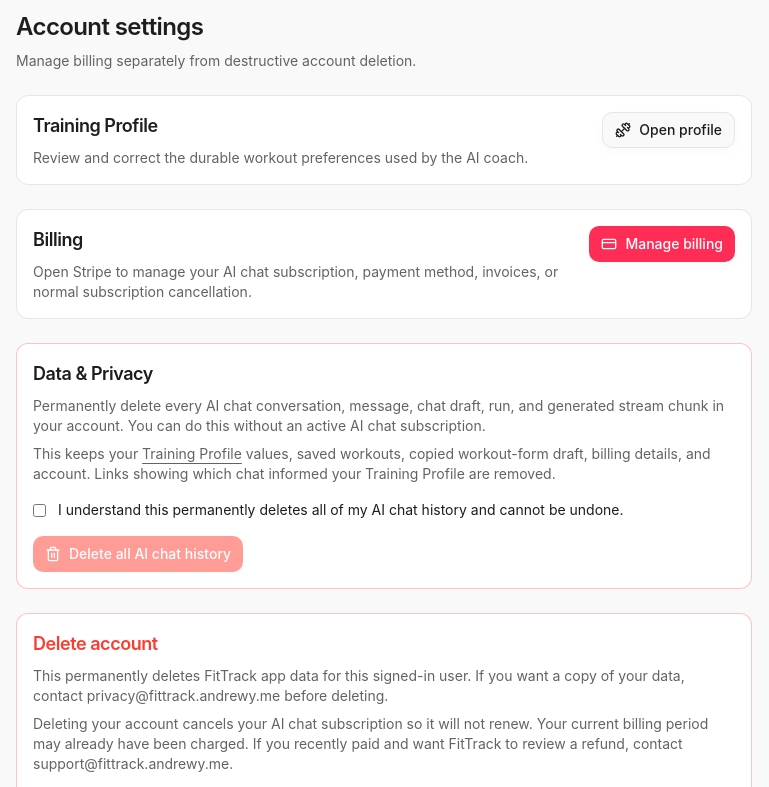
it: AccountSettingsPage › lets a signed-in former subscriber permanently delete all AI chat history without signing out
Check: the element "Data & Privacy" is shown, box [16,343,752,589]
Check: the element "Training Profile" shows "keeps your Training Profile values, saved workouts, copied workout-form draft, billing details, and account", box [33,444,735,484]
What coordinates should you click on to do the following:
click the checkbox labelled "I understand this permanently deletes all of my AI chat history"
I would click on:
 (40, 510)
Its box is [33,504,46,517].
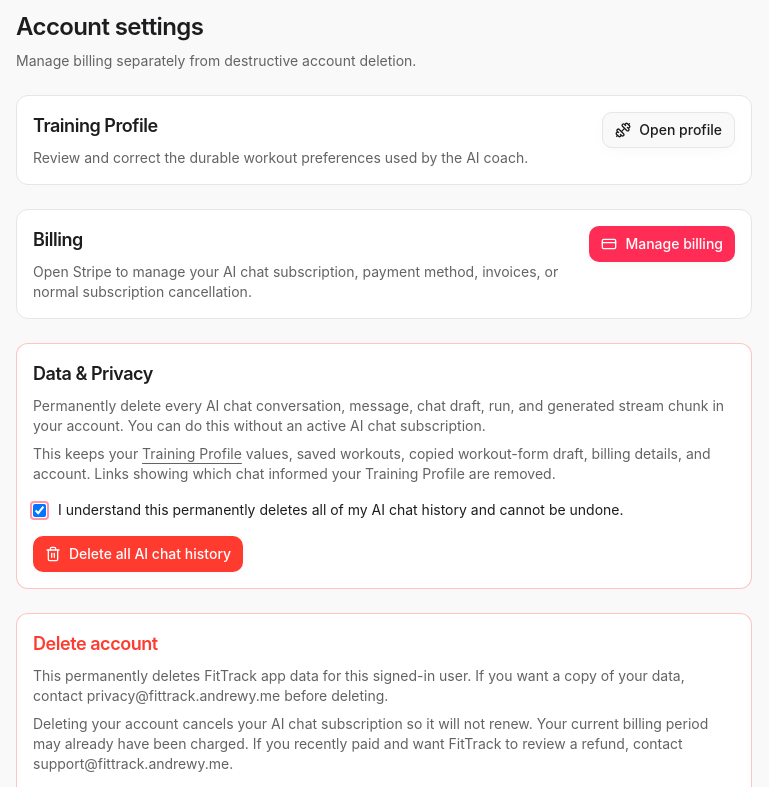
What coordinates should you click on to do the following:
click the button "Delete all AI chat history"
I would click on:
 (138, 554)
Its box is [33,536,243,572].
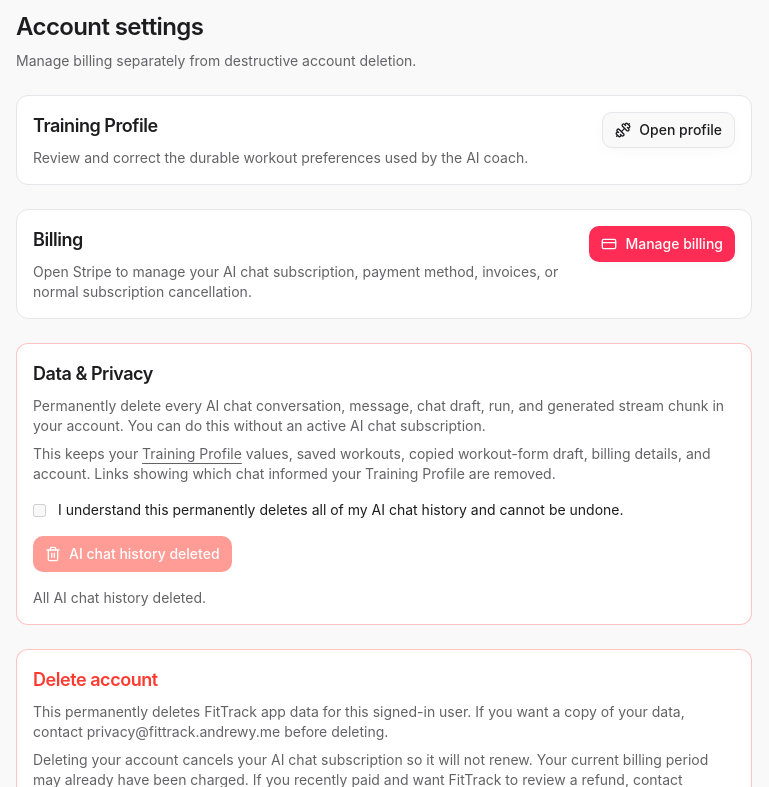
Check: the text "All AI chat history deleted." is shown, box [33,589,206,606]
